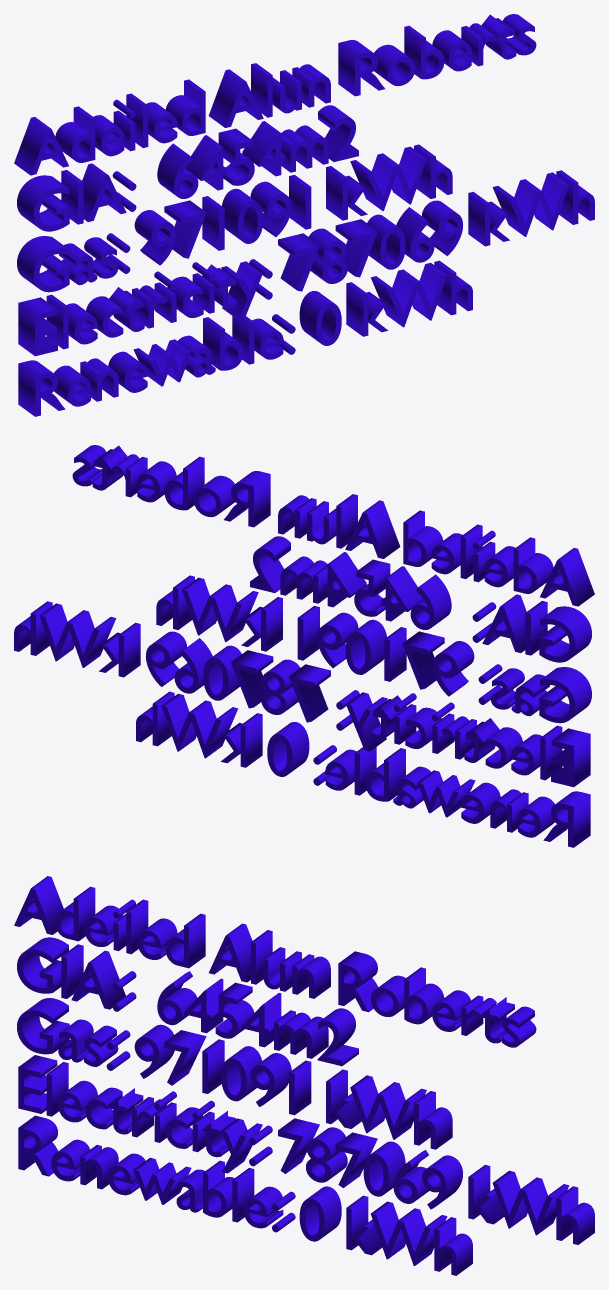
The model's file is AAR.gltf.
3 views of the same model, one above another, from view 1: azimuth 30°, elevation 25°; view 2: azimuth 150°, elevation 25°; view 3: azimuth 330°, elevation 25° (orthographic).
Visible parts, largest first — view 1: Text; view 2: Text; view 3: Text.
Part boxes in pixels (x1=…): Text: x1=14, y1=14, x2=594, y2=416; Text: x1=14, y1=445, x2=594, y2=847; Text: x1=14, y1=876, x2=594, y2=1275.
Size of the model in its own units: 9.75 by 4.69 by 0.5.
